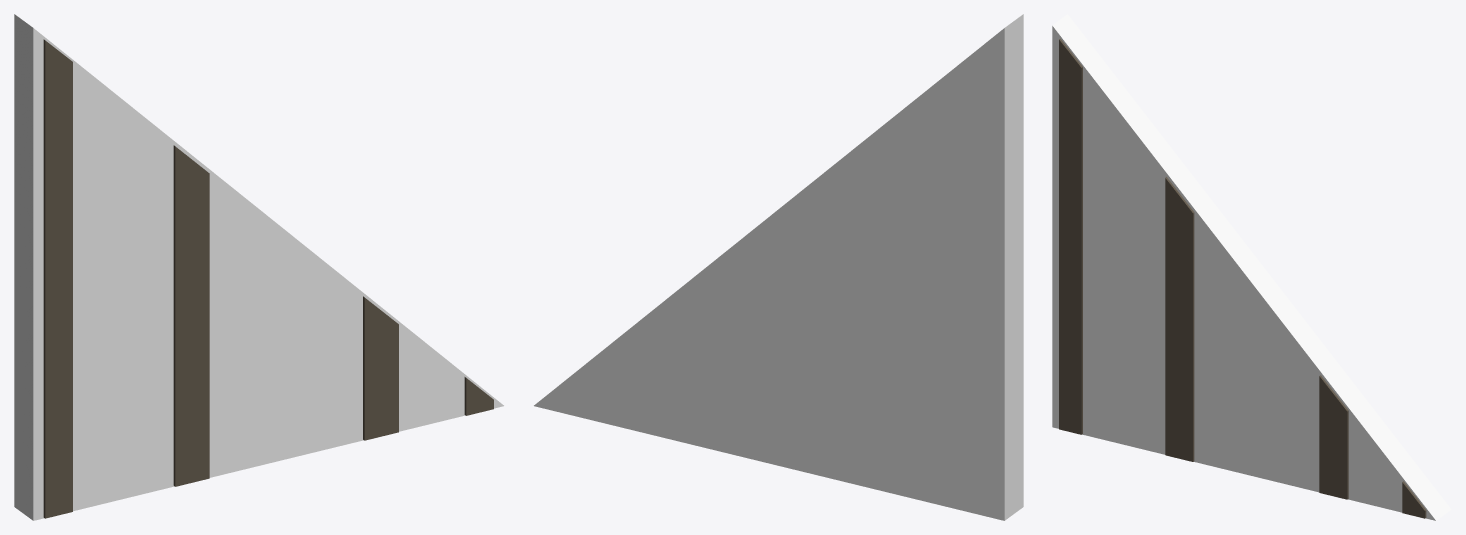
Rendered from _ROOF_trinagle_right_wood_1.fbx.
3 views of the same model, side by side, from view 1: azimuth 30°, elevation 25°; view 2: azimuth 150°, elevation 25°; view 3: azimuth 330°, elevation 25° (orthographic). The views are drawn at different scales.
Visible parts, largest first — view 1: ROOF_trinagle_right_wood_1; view 2: ROOF_trinagle_right_wood_1; view 3: ROOF_trinagle_right_wood_1.
Part boxes in pixels (x1=…): ROOF_trinagle_right_wood_1: x1=14, y1=14, x2=503, y2=520; ROOF_trinagle_right_wood_1: x1=534, y1=14, x2=1023, y2=520; ROOF_trinagle_right_wood_1: x1=1052, y1=14, x2=1451, y2=520.
Size of the model in its own units: 100 by 100 by 7.61.
